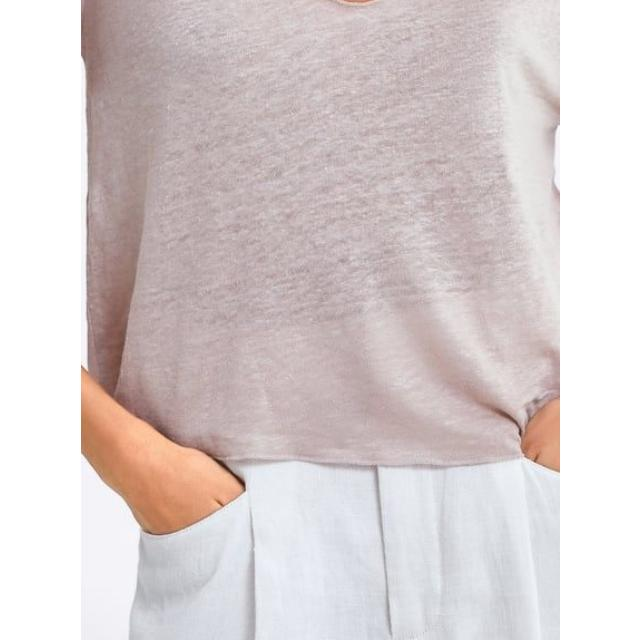linen: (82, 454, 560, 640)
